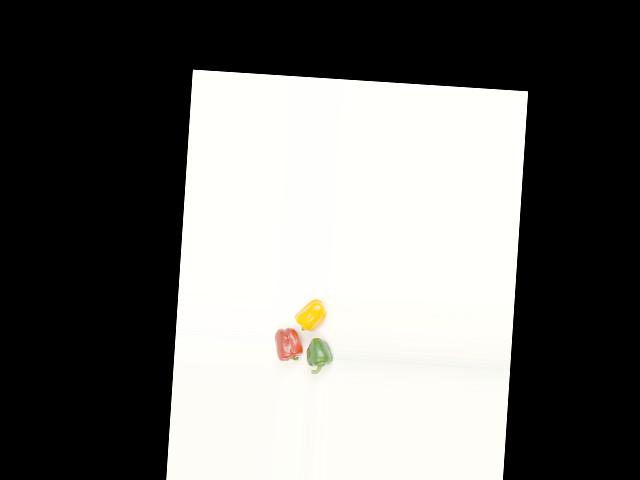bell_pepper: (303, 336, 334, 376)
